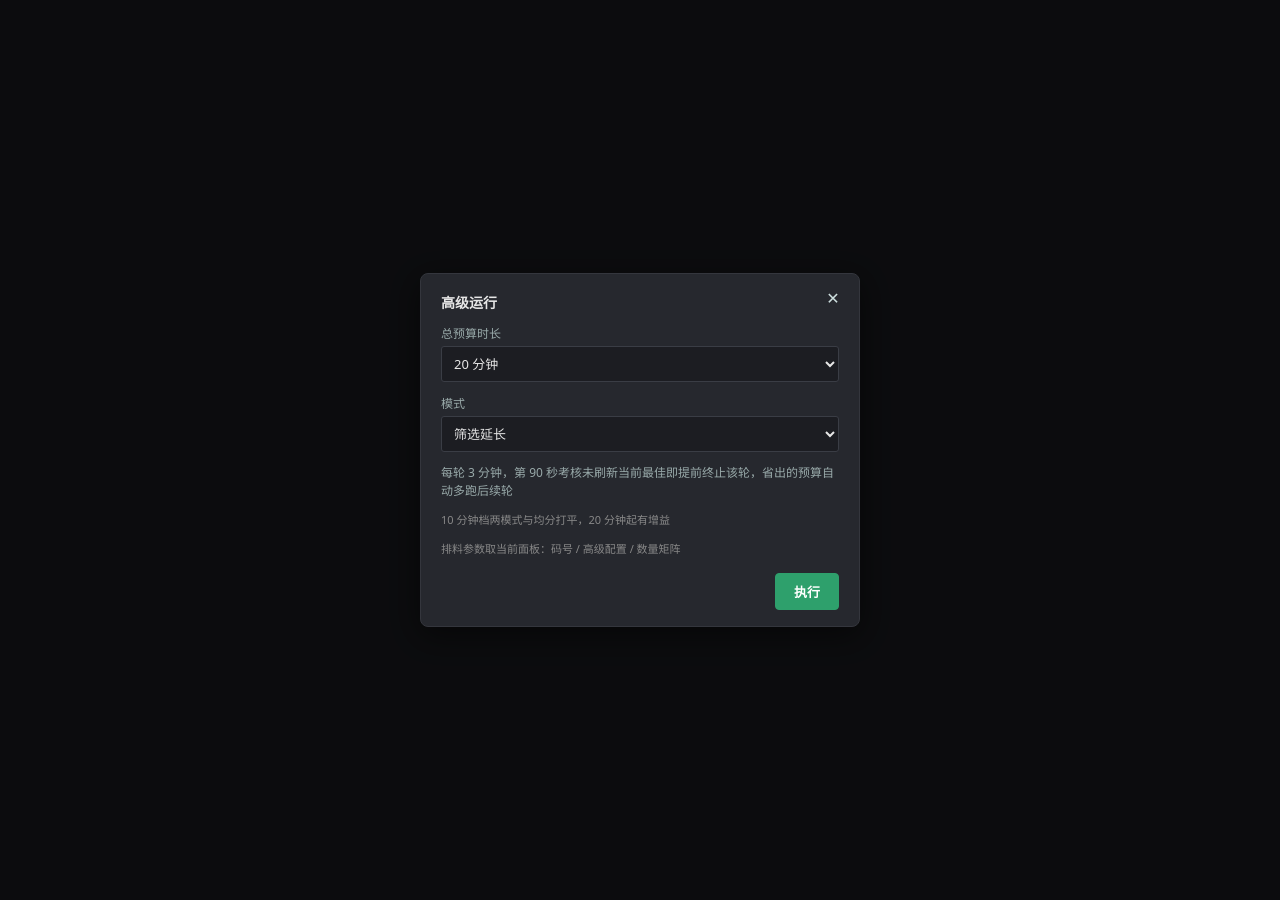
Scenario: StrategyRunModal SE 多候选 (US-004) › 配置态 se 模式：提交前多候选提示（≤0.5pt / 至多 3 个 / 约 6 分钟动态）；race 模式不显示
The image size is (1280, 900).
Select "筛选延长" in the dropdown with test id "strategy-mode" at (640, 434), box [441,416,839,452]
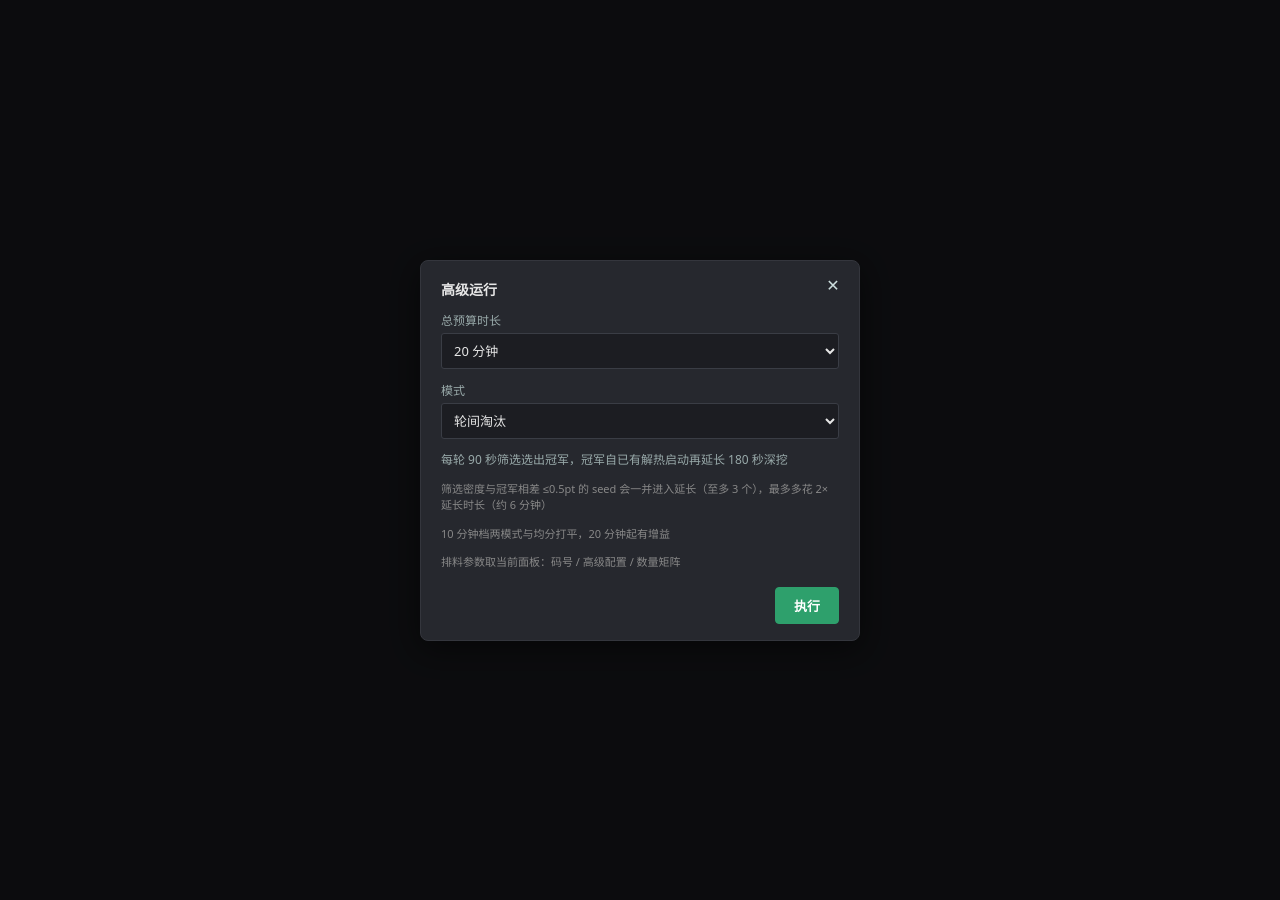
Result: the text with test id "strategy-ext-hint" reads "筛选密度与冠军相差 ≤0.5pt 的 seed 会一并进入延长（至多 3 个），最多多花 2×延长时长（约 6 分钟）" at [441,480,828,512]
Select "轮间淘汰" in the dropdown with test id "strategy-mode" at (640, 420), box [441,402,839,438]
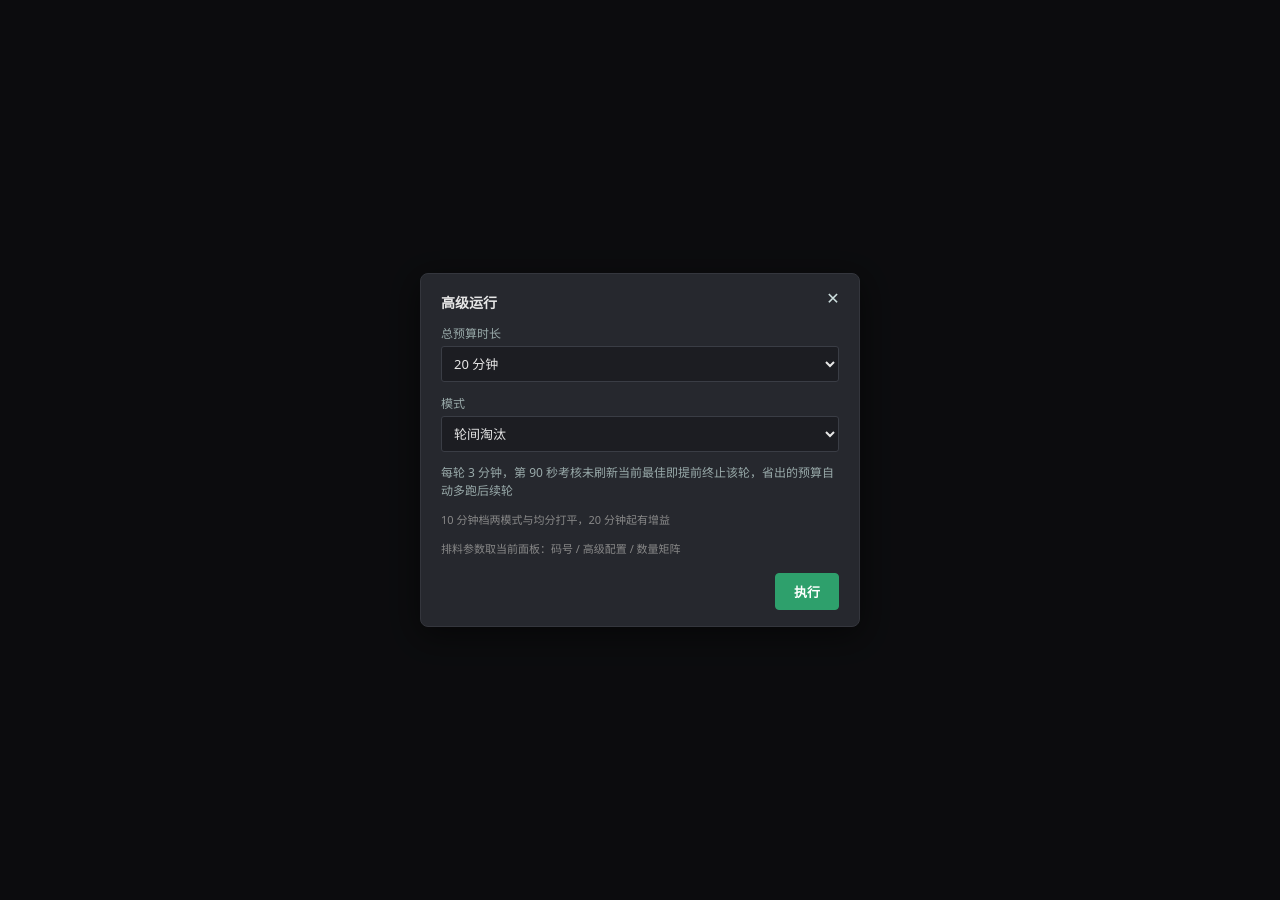
Result: the text with test id "strategy-ext-hint" is gone
